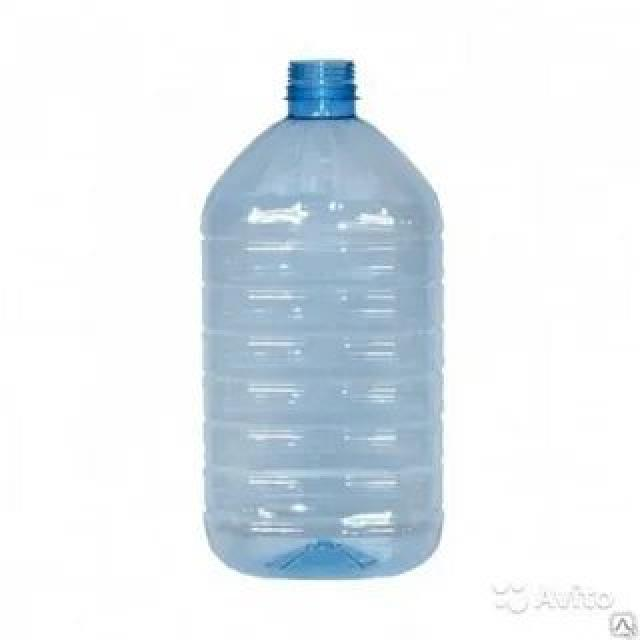blue: (200, 61, 445, 576)
